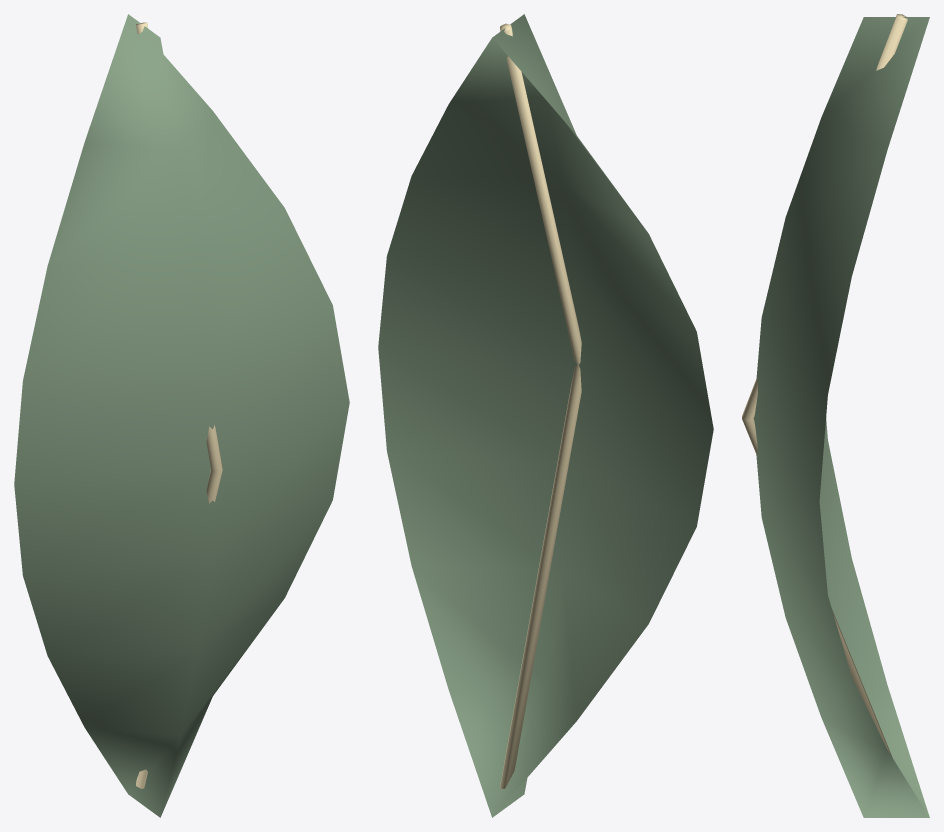
The model's file is botanical-leaf.glb.
3 views of the same model, side by side, from view 1: azimuth 30°, elevation 25°; view 2: azimuth 150°, elevation 25°; view 3: azimuth 270°, elevation 25° (orthographic). The views are drawn at different scales.
Parts seen in each view (by area): view 1: leaf-0, vein-1; view 2: leaf-0, vein-1; view 3: leaf-0, vein-1.
Boxes of the visible parts, left/top/right/bottom form: leaf-0: left=14, top=14, right=349, bottom=817; vein-1: left=136, top=22, right=222, bottom=788; leaf-0: left=378, top=14, right=713, bottom=817; vein-1: left=500, top=23, right=581, bottom=788; leaf-0: left=753, top=17, right=929, bottom=817; vein-1: left=742, top=14, right=907, bottom=757.
Bounding box in the file's own units: 0.36 × 0.8017 × 0.1702.
